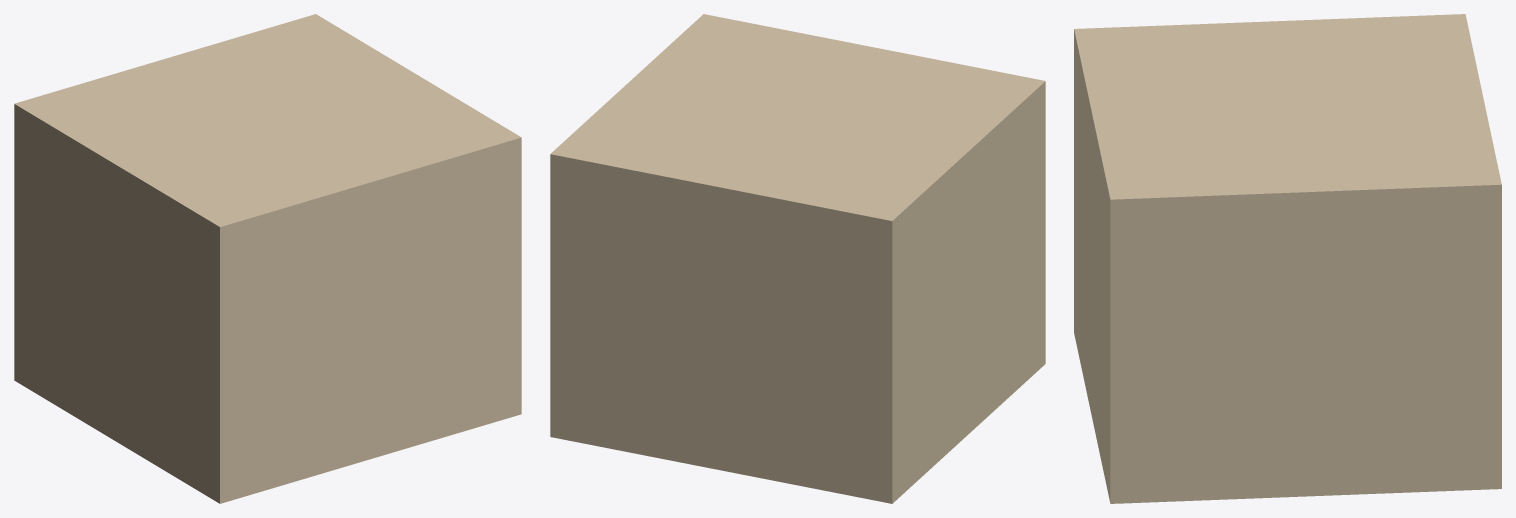
3 views of the same model, side by side, from view 1: azimuth 30°, elevation 25°; view 2: azimuth 150°, elevation 25°; view 3: azimuth 270°, elevation 25° (orthographic). The views are drawn at different scales.
Visible parts, largest first — view 1: SM_cef0656391c1a85ee3af; view 2: SM_cef0656391c1a85ee3af; view 3: SM_cef0656391c1a85ee3af.
Part boxes in pixels (x1=…): SM_cef0656391c1a85ee3af: x1=14, y1=14, x2=521, y2=503; SM_cef0656391c1a85ee3af: x1=550, y1=14, x2=1045, y2=503; SM_cef0656391c1a85ee3af: x1=1074, y1=14, x2=1501, y2=503.
Size of the model in its own units: 11.78 by 11.47 by 9.
